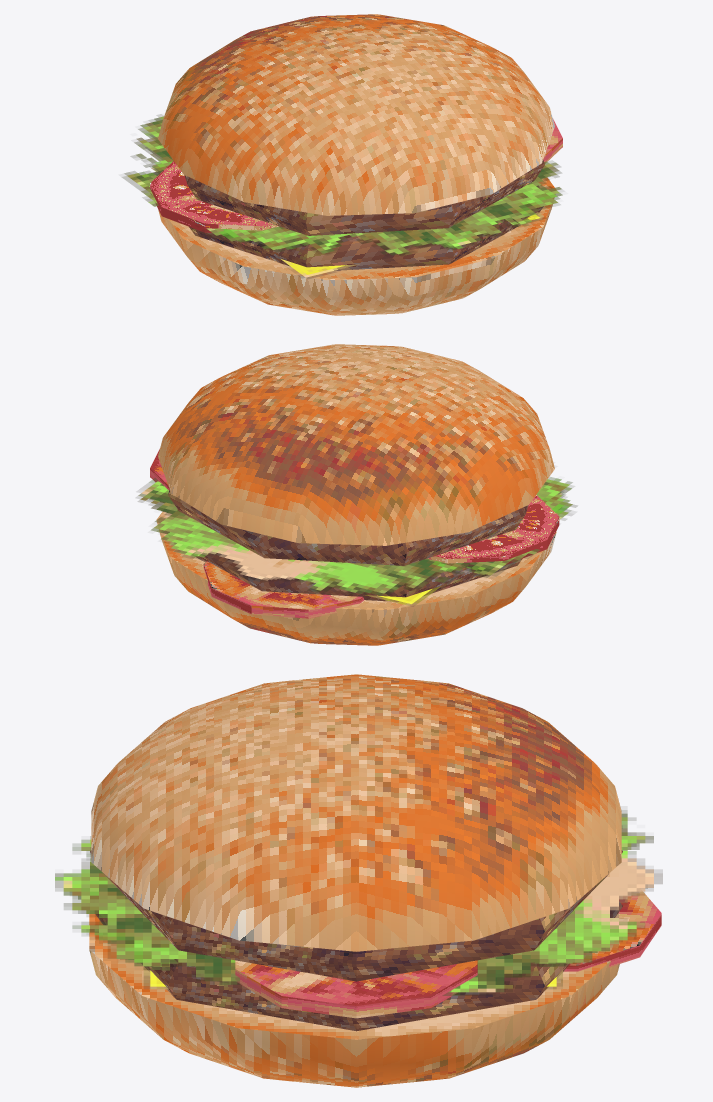
The model's file is psx_-_burger.glb.
3 views of the same model, one above another, from view 1: azimuth 30°, elevation 25°; view 2: azimuth 150°, elevation 25°; view 3: azimuth 270°, elevation 25° (orthographic). The views are drawn at different scales.
Visible parts, largest first — view 1: polySurface93; view 2: polySurface93; view 3: polySurface93.
Part boxes in pixels (left/top/right/bottom): polySurface93: left=122, top=14, right=562, bottom=315; polySurface93: left=136, top=344, right=576, bottom=645; polySurface93: left=55, top=674, right=662, bottom=1087.
Size of the model in its own units: 0.0256 by 0.0132 by 0.0256.
Materials: 3 (3 with a texture image).
